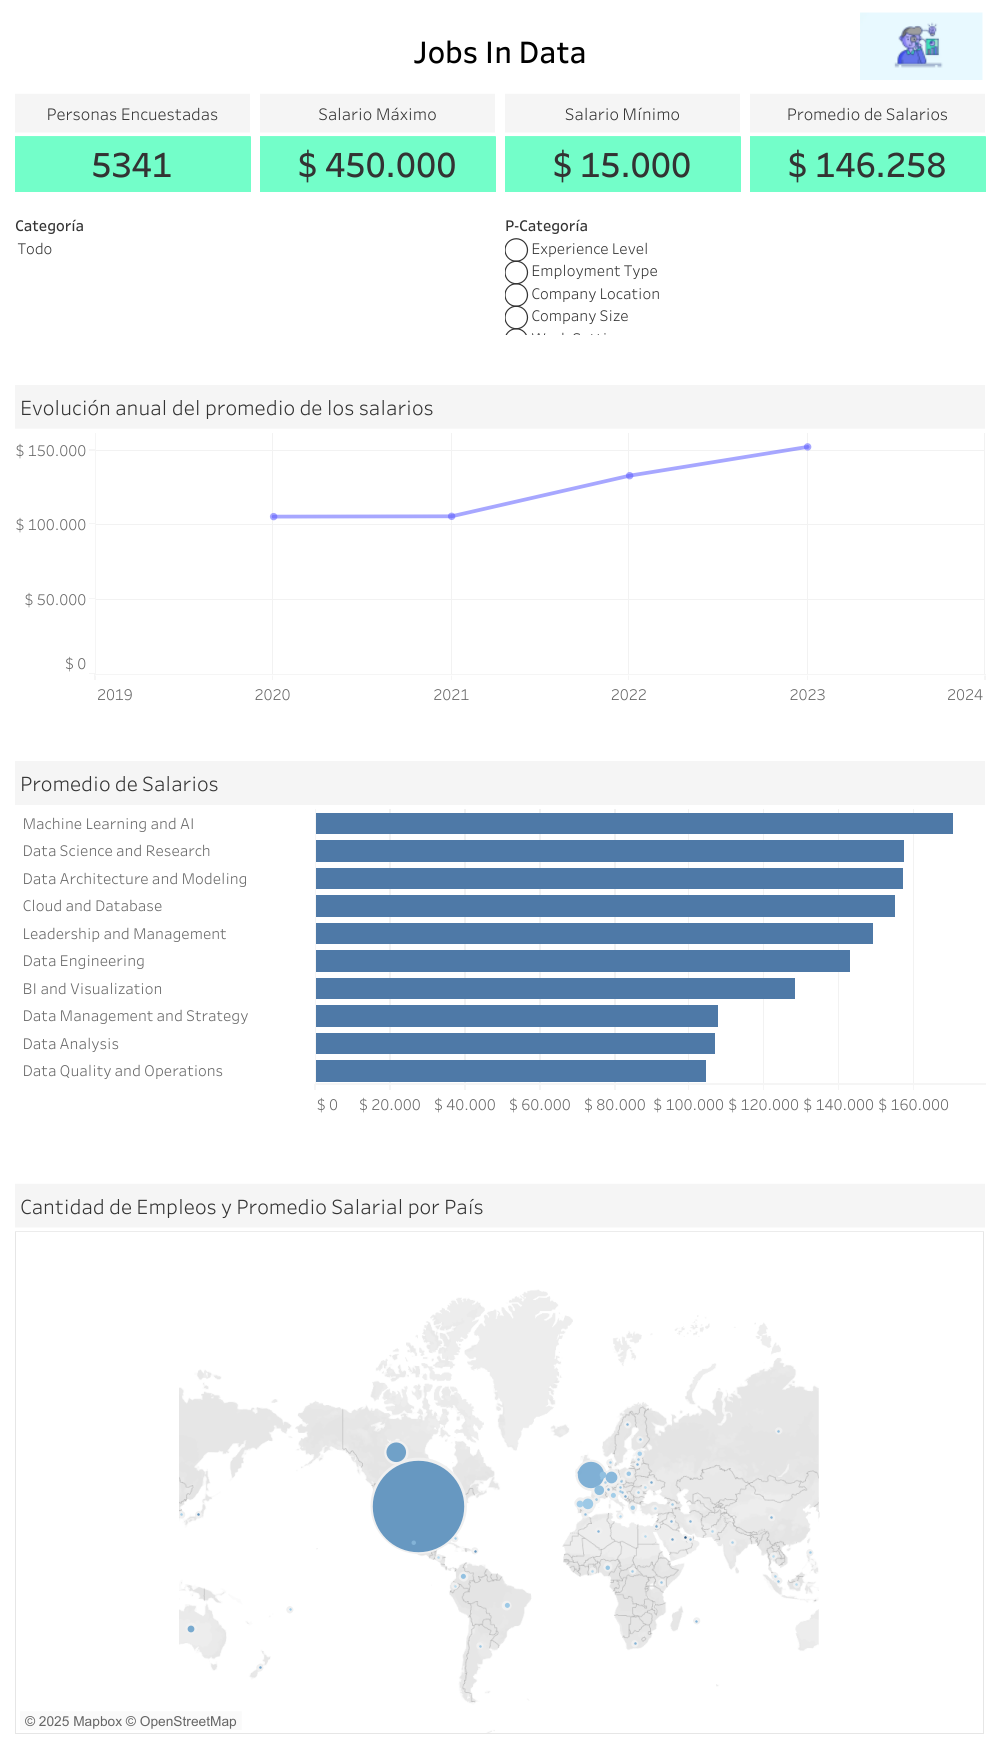

The dashboard page shown, as its layout file describes it:
{"tool":"tableau","page":{"name":"Dashboard1","canvas":[800,1400],"ordinal":1},"visuals":[{"type":"title","box":[8,8,784,63]},{"type":"image","param":"Image/trabajo_data_analyst.webp","box":[685,10,105,54]},{"type":"worksheet","title":"Personas Encuestadas","mark":"Automatic","box":[8,71,196,95]},{"type":"worksheet","title":"Salario Máximo","mark":"Automatic","box":[204,71,196,95]},{"type":"worksheet","title":"Salario Mínimo","mark":"Automatic","box":[400,71,196,95]},{"type":"worksheet","title":"Promedio Salarios","mark":"Automatic","box":[596,71,196,95]},{"type":"filter","title":"Salarios Según Categoría","param":"[federated.1iqewby0h3hk6w15becyx175btk0].[none:Calculation_174514550507122688:nk","box":[8,166,392,106]},{"type":"parameter","param":"[Parameters].[Parámetro 1]","box":[400,166,392,106]},{"type":"blank","box":[8,272,784,32]},{"type":"worksheet","title":"Evolución anual del promedio de los salarios","mark":"Automatic","rows":["Calculation_1019220950013480960"],"cols":["Work Year"],"box":[8,304,784,269]},{"type":"blank","box":[8,573,784,32]},{"type":"worksheet","title":"Salarios Según Categoría","mark":"Automatic","rows":["Calculation_174514550507122688"],"cols":["Calculation_1019220950013480960"],"box":[8,605,784,306]},{"type":"blank","box":[8,911,784,32]},{"type":"worksheet","title":"Cantidad de empleos","mark":"Automatic","box":[8,943,784,449]}]}

Visuals, with their boxes in screenshot pixels (x1, y1, x2, y2), scaled from the page's 800x1400 canvas onto the 999x1749 screenshot:
title: <box>10,10,989,89</box>
image: <box>855,12,987,80</box>
"Personas Encuestadas" worksheet: <box>10,89,255,207</box>
"Salario Máximo" worksheet: <box>255,89,500,207</box>
"Salario Mínimo" worksheet: <box>500,89,744,207</box>
"Promedio Salarios" worksheet: <box>744,89,989,207</box>
"Salarios Según Categoría" filter: <box>10,207,500,340</box>
parameter: <box>500,207,989,340</box>
blank: <box>10,340,989,380</box>
"Evolución anual del promedio de los salarios" worksheet: <box>10,380,989,716</box>
blank: <box>10,716,989,756</box>
"Salarios Según Categoría" worksheet: <box>10,756,989,1138</box>
blank: <box>10,1138,989,1178</box>
"Cantidad de empleos" worksheet: <box>10,1178,989,1739</box>
